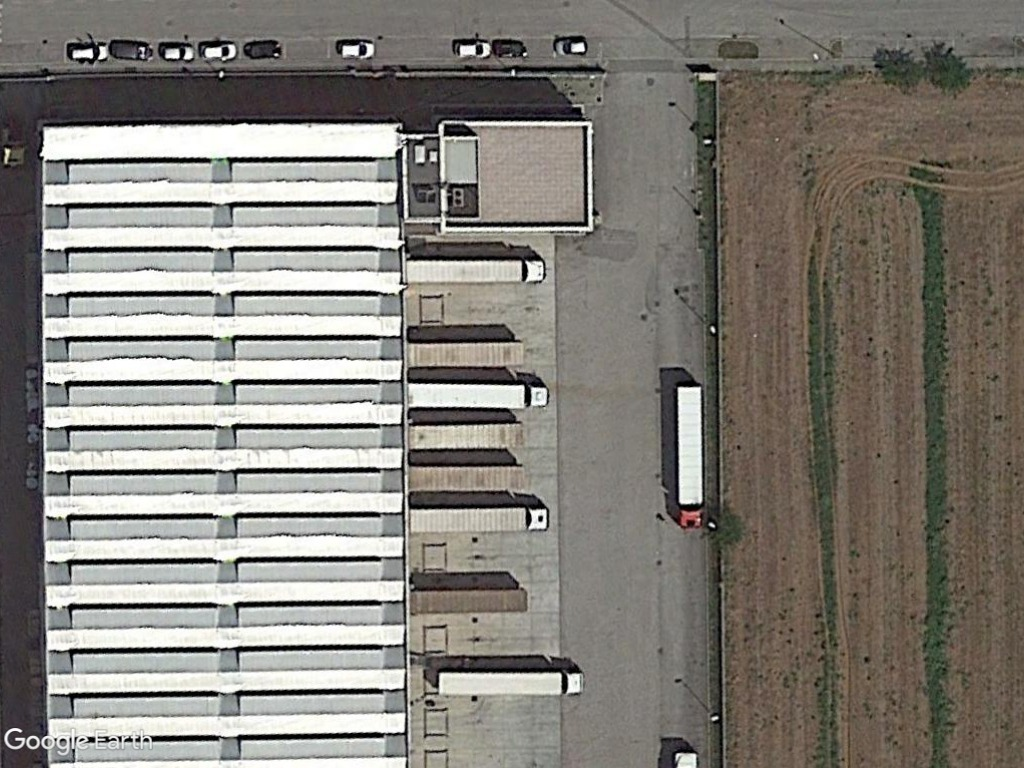car: (67, 42, 112, 64), (336, 39, 379, 62), (156, 42, 199, 65), (450, 38, 494, 59), (550, 34, 590, 57), (198, 40, 240, 61)
longvehicle: (670, 381, 710, 533), (430, 664, 588, 702), (409, 500, 553, 537), (404, 253, 551, 289), (405, 378, 553, 411), (404, 461, 530, 495), (404, 337, 530, 371), (408, 420, 528, 452)
